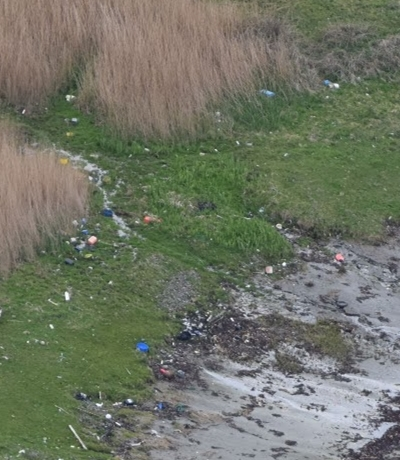scattered_barrel: (43, 200, 166, 267), (261, 214, 354, 278), (43, 86, 107, 171), (73, 386, 173, 430), (130, 325, 199, 385)
tube: (63, 419, 96, 456)
white_in_green: (306, 62, 361, 109), (242, 69, 296, 116), (42, 274, 92, 314)
